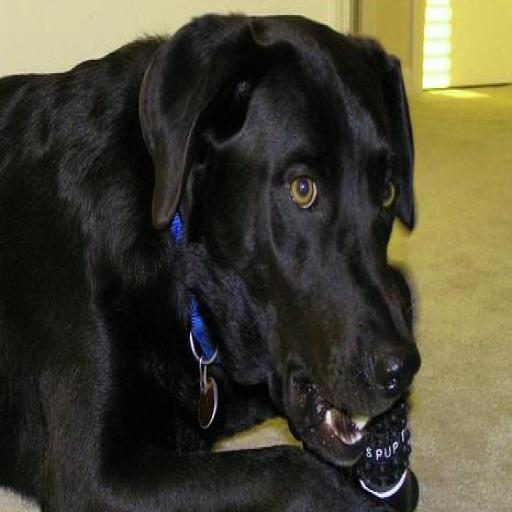dog_face: (151, 18, 424, 456)
